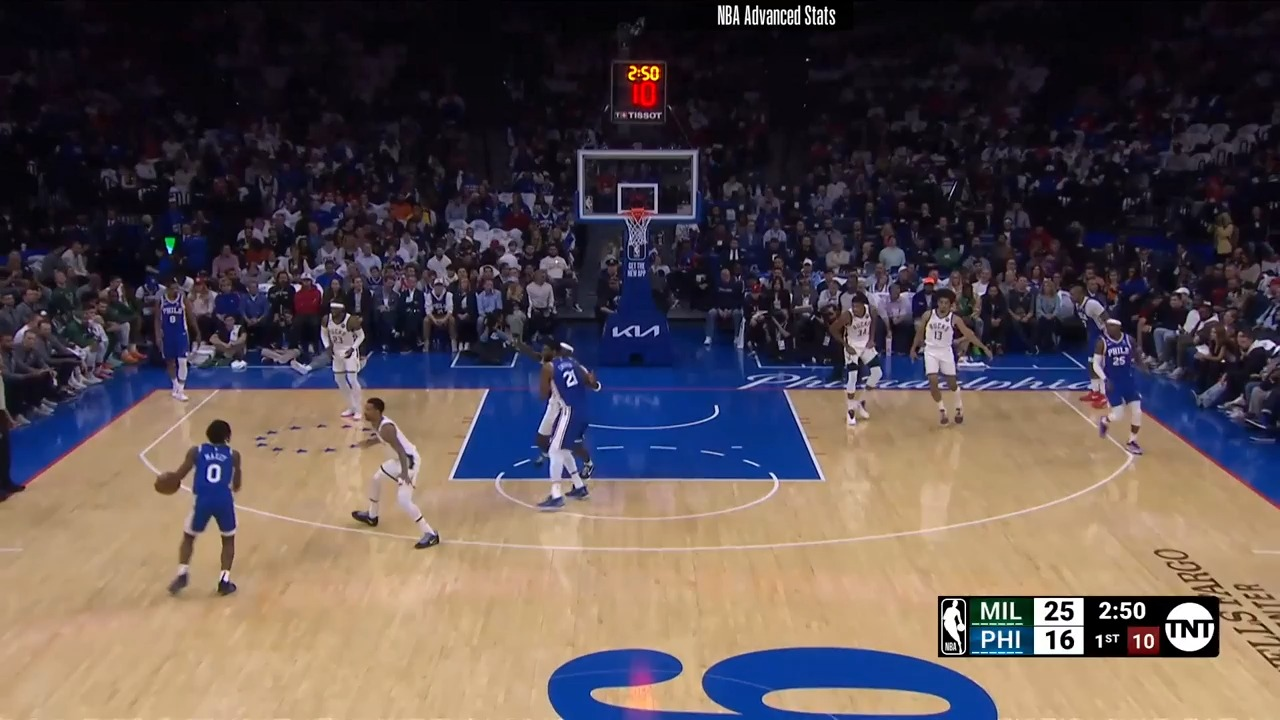net: (617, 202, 658, 248)
player: (148, 418, 244, 604), (351, 396, 439, 548), (532, 337, 598, 510), (915, 295, 986, 431), (1087, 316, 1150, 463), (832, 297, 886, 432), (316, 302, 366, 438), (153, 280, 198, 407), (1073, 282, 1119, 406)
